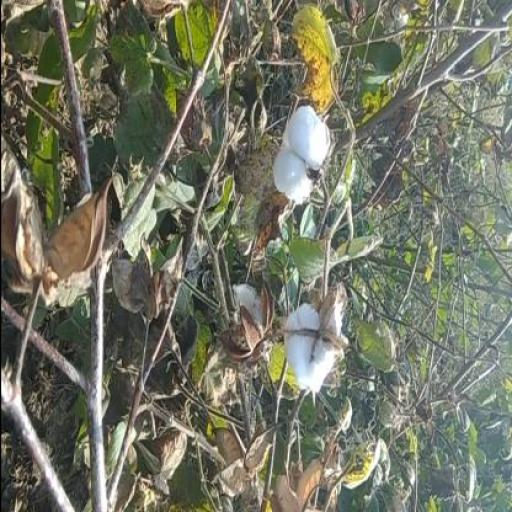cotton_ready: (262, 262, 352, 414), (257, 96, 340, 218)
